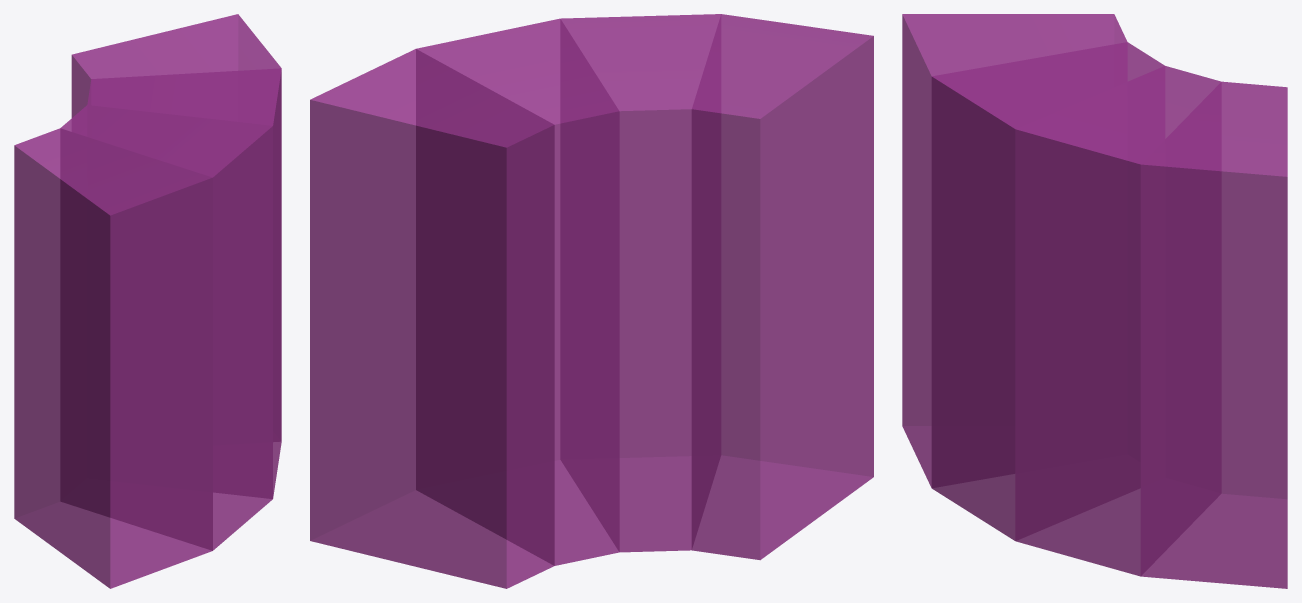
File: SM_Bld_Wall_Fort_Base_Round_01_Collision.fbx
3 renders of one model, left to right at view 1: azimuth 30°, elevation 25°; view 2: azimuth 150°, elevation 25°; view 3: azimuth 270°, elevation 25°, orthographic. The views are drawn at different scales.
Visible parts, largest first — view 1: SM_Bld_Wall_Fort_Base_Round_01_Collision; view 2: SM_Bld_Wall_Fort_Base_Round_01_Collision; view 3: SM_Bld_Wall_Fort_Base_Round_01_Collision.
Part boxes in pixels (<box>): SM_Bld_Wall_Fort_Base_Round_01_Collision: <box>14,14,281,588</box>; SM_Bld_Wall_Fort_Base_Round_01_Collision: <box>310,14,873,588</box>; SM_Bld_Wall_Fort_Base_Round_01_Collision: <box>902,14,1287,588</box>.
Size of the model in its own units: 520 by 613 by 520.
